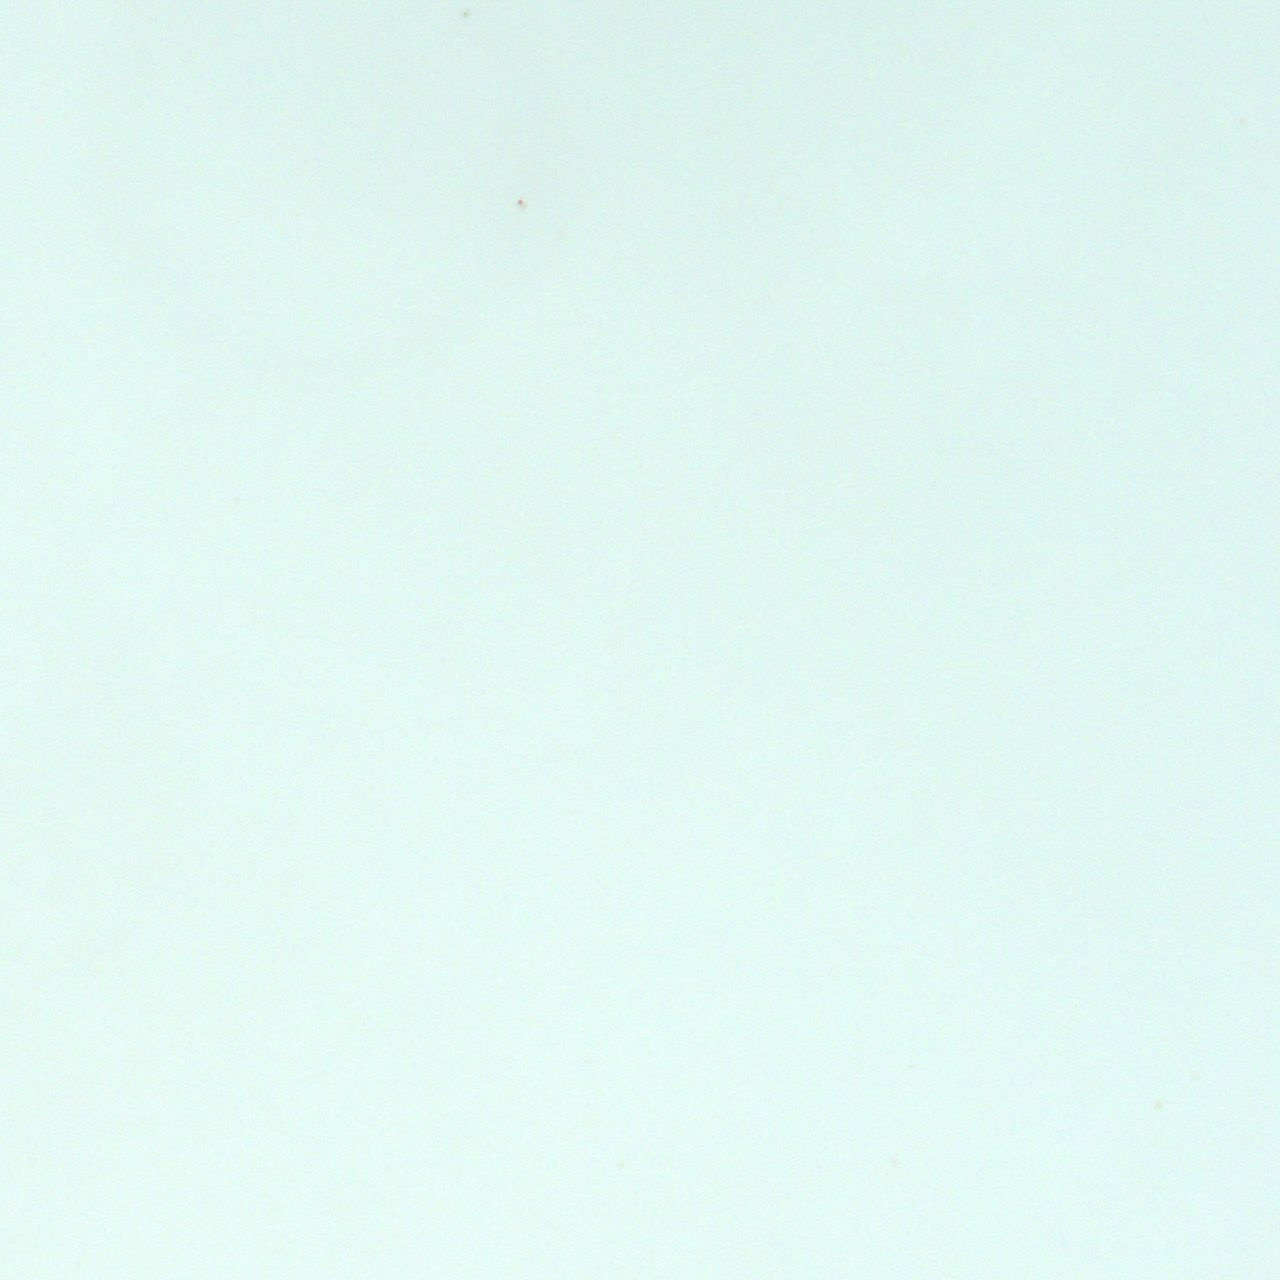dust: (461, 9, 470, 18), (517, 198, 524, 206)
